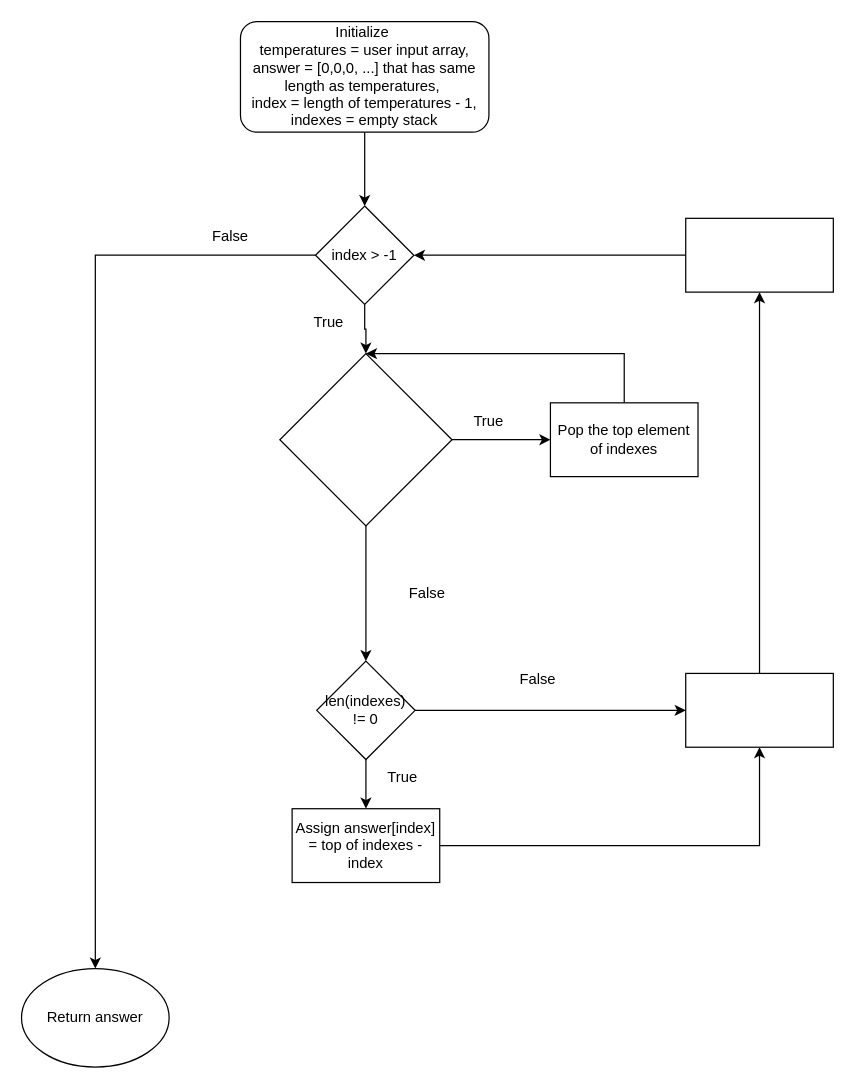
This 855x1089 diagram has some shape labels left out. The centre of each missing label's shape, as x and y in pixels:
"Decrement index by 1" belongs at (758,254).
"len(indexes) == 0 && temperatures[index] >= temperatures[indexes[-1]]" belongs at (365,439).
"Push index to indexes" belongs at (758,709).
